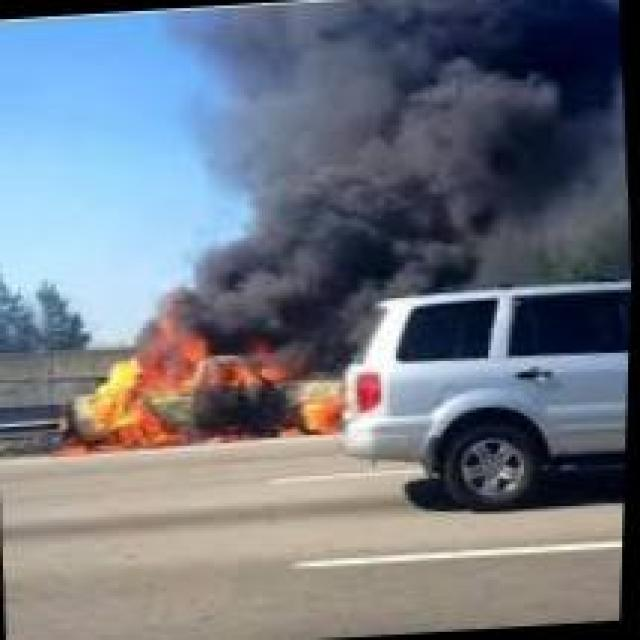Fire: (54, 290, 352, 460)
Smoke: (134, 0, 637, 301)
